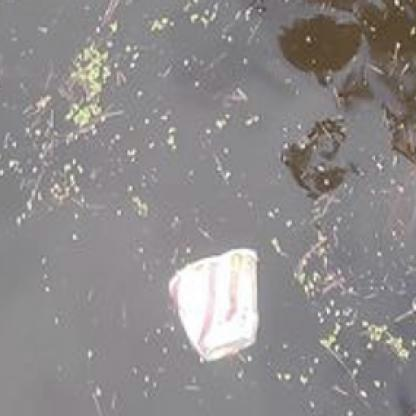Plastic: (162, 244, 263, 368)
